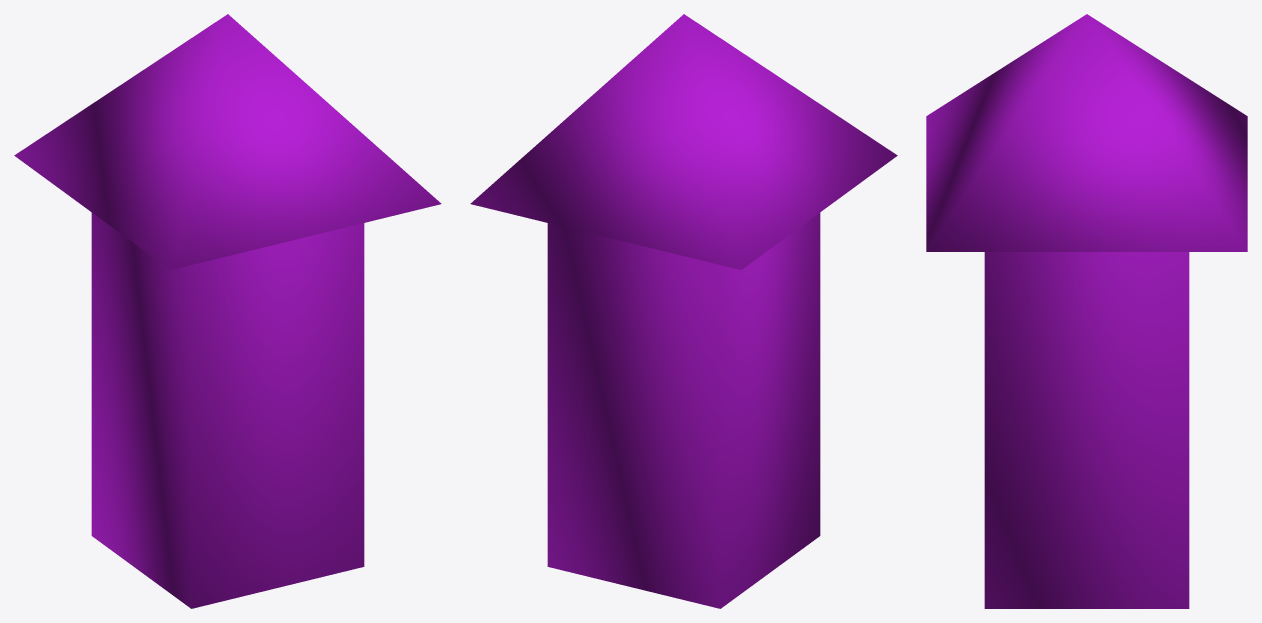
The model's file is arrow.fbx.
The picture shows the model from 3 angles, left to right: view 1: azimuth 30°, elevation 25°; view 2: azimuth 150°, elevation 25°; view 3: azimuth 270°, elevation 25°; orthographic projection. The views are drawn at different scales.
Parts seen in each view (by area): view 1: Arrow; view 2: Arrow; view 3: Arrow.
Part boxes in pixels (x1,y1,x2,y2): Arrow: (14,14,441,608); Arrow: (470,14,897,608); Arrow: (926,14,1247,608).
Bounding box in the file's own units: 206 × 390 × 206.
